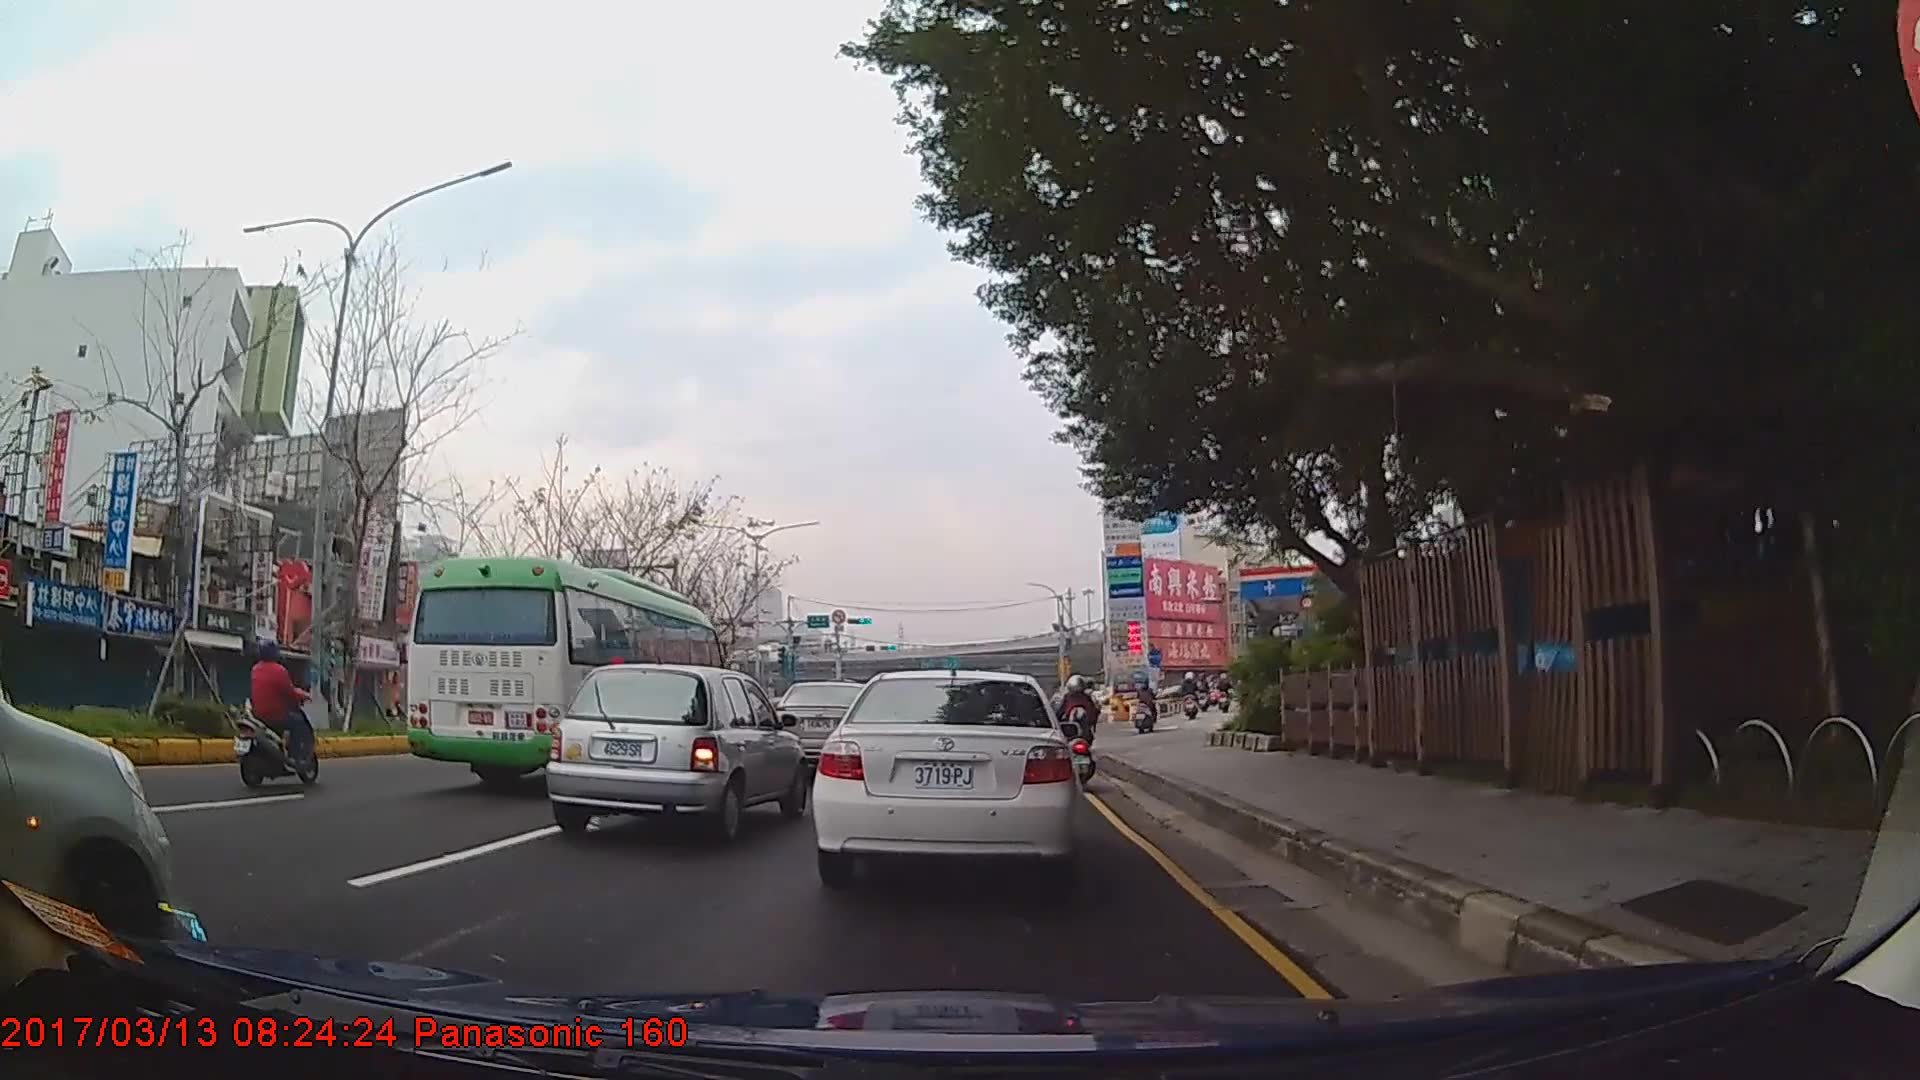rider: (227, 633, 318, 794), (1060, 673, 1101, 787), (1135, 676, 1157, 732), (1179, 670, 1199, 720)
vehicle: (396, 551, 726, 795), (809, 666, 1083, 887), (545, 661, 806, 849), (770, 681, 887, 776)
